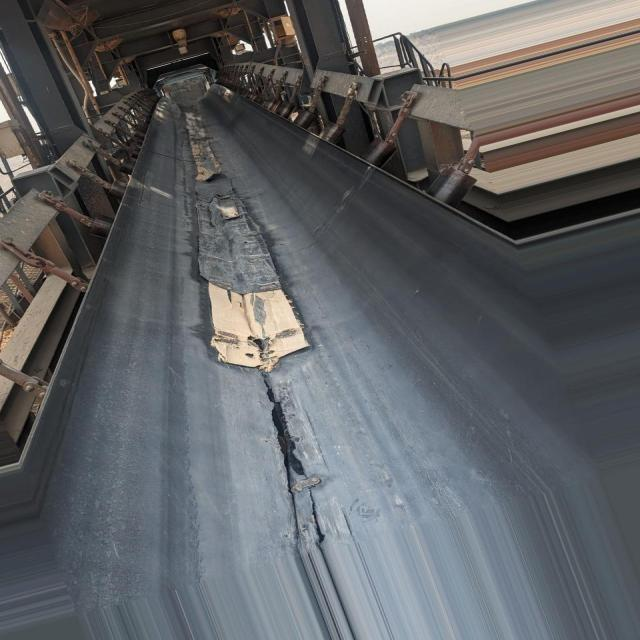Tear: (258, 364, 300, 544), (307, 487, 328, 544)
